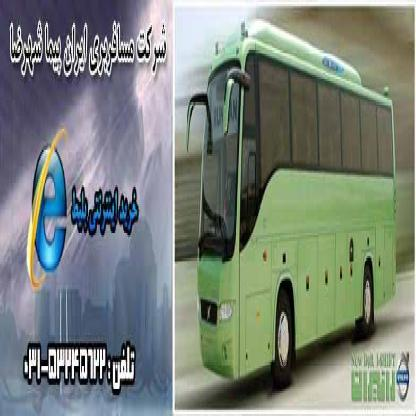Bus: (196, 16, 397, 378)
